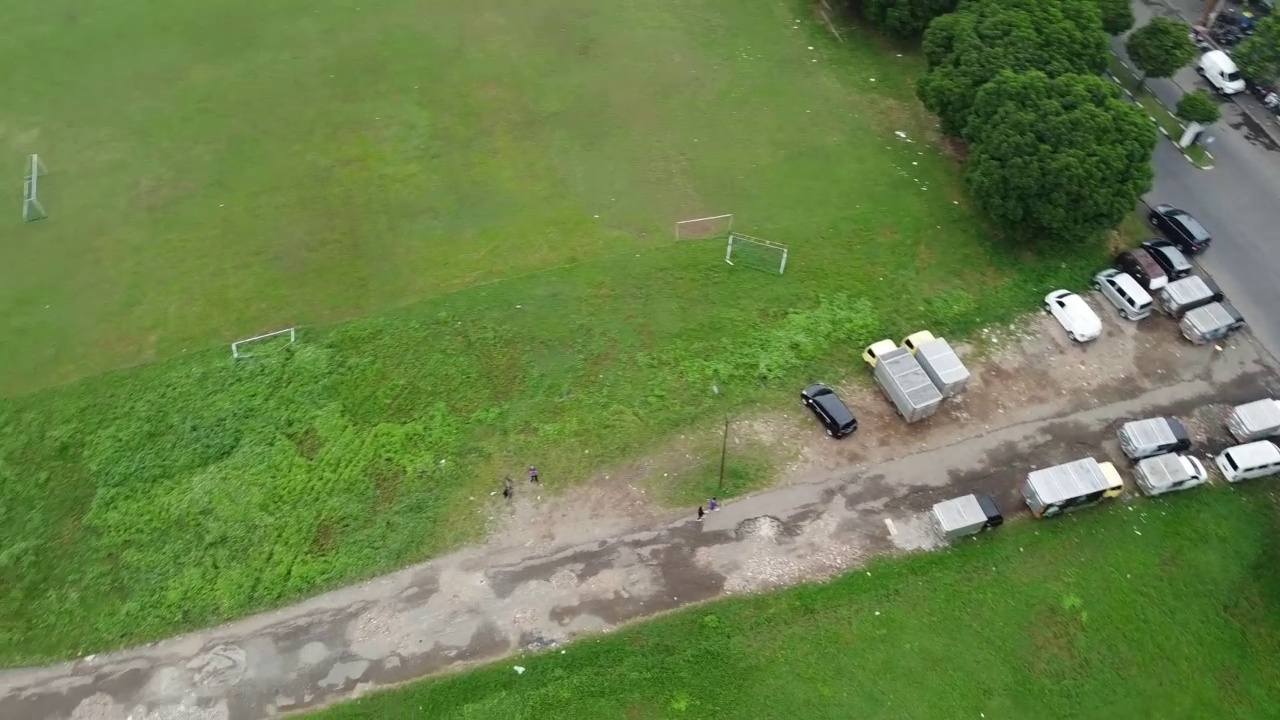mobil: (793, 377, 865, 441), (1040, 286, 1110, 347), (1149, 198, 1215, 257), (1219, 435, 1280, 491), (1097, 263, 1154, 316), (1195, 48, 1249, 99), (1122, 242, 1171, 292), (1146, 234, 1194, 277)
